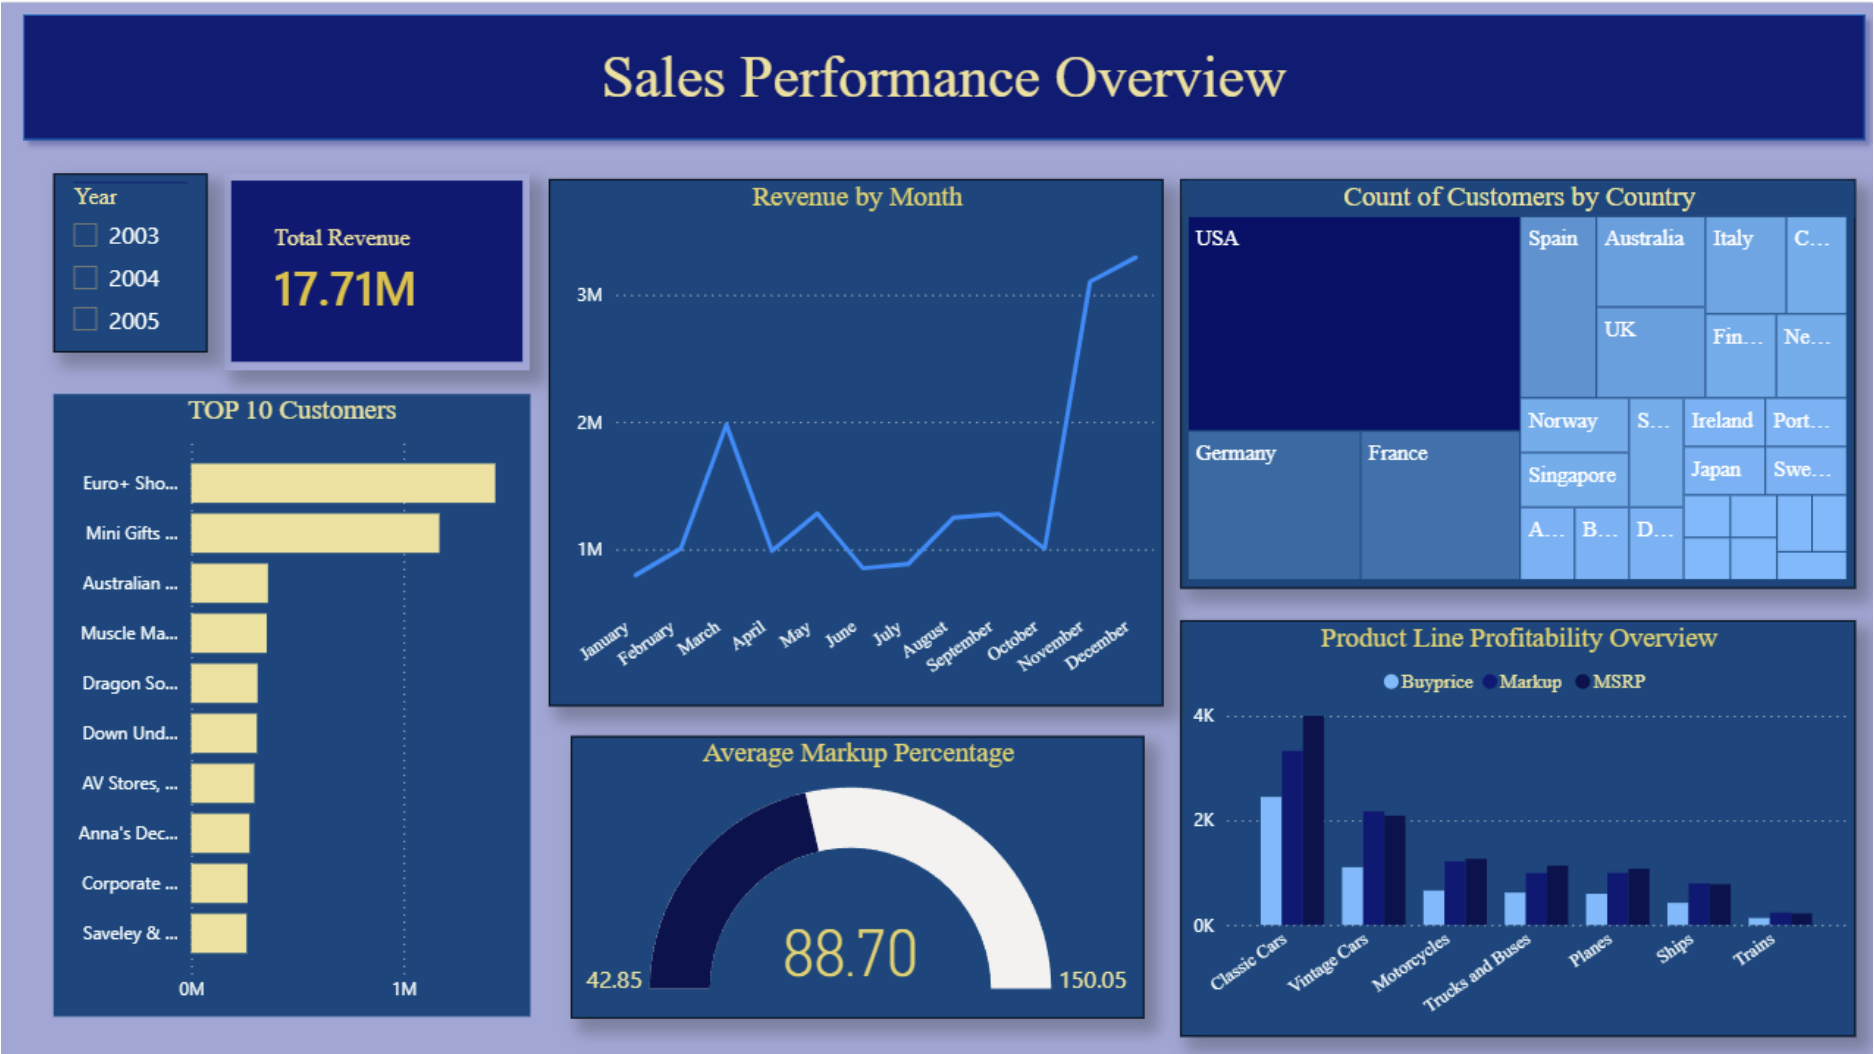

The dashboard page shown, as its layout file describes it:
{"tool":"powerbi","page":{"name":"Sales Performance","canvas":[1280,720],"ordinal":0},"visuals":[{"type":"shape","box":[9.6,0,1270.7,101.5],"z":0},{"type":"slicer","fields":{"Values":["`PAYMENTS` (2).`PAYMENTDATE`.Variation.Date Hierarchy.Year"]},"box":[38.3,116.7,105,121.7],"z":1000},{"type":"cardVisual","fields":{"Data":["important measures.Revenue"]},"box":[155,116.7,208.3,133.3],"z":2000},{"type":"gauge","title":"Average Markup Percentage","fields":{"Y":["Avg(`PRODUCTS` (2).`MARKUP_PERCENTAGE`)"],"MinValue":["Min(`PRODUCTS` (2).`MARKUP_PERCENTAGE`)"],"MaxValue":["Max(`PRODUCTS` (2).`MARKUP_PERCENTAGE`)1"]},"box":[391.7,498.3,390,191.7],"z":3000},{"type":"treemap","title":"Count of Customers by Country","fields":{"Values":["important measures.Count of Customer"],"Group":["`CUSTOMERS` (2).`COUNTRY`","`CUSTOMERS` (2).`STATE`"]},"box":[806.7,120,460,278.3],"z":4000},{"type":"clusteredBarChart","title":"TOP 10 Customers","fields":{"Category":["`CUSTOMERS` (2).`CUSTOMERNAME`"],"Y":["Sum(`PAYMENTS` (2).`AMOUNT`)"]},"box":[38.3,266.7,325,423.3],"z":5000},{"type":"clusteredColumnChart","title":"Product Line Profitability Overview","fields":{"Category":["`PRODUCTLINES` (2).`PRODUCTLINE`"],"Y":["Sum(`PRODUCTS` (2).`BUYPRICE`)","Sum(`PRODUCTS` (2).`MARKUP_PERCENTAGE`)","Sum(`PRODUCTS` (2).`MSRP`)"]},"box":[806.7,420,460,283.3],"z":6000},{"type":"lineChart","fields":{"Category":["`PAYMENTS` (2).`PAYMENTDATE`.Variation.Date Hierarchy.Year","`PAYMENTS` (2).`PAYMENTDATE`.Variation.Date Hierarchy.Quarter","`PAYMENTS` (2).`PAYMENTDATE`.Variation.Date Hierarchy.Month"],"Y":["important measures.Revenue"]},"box":[376.7,120,418.3,358.3],"z":7000}]}

Visuals, with their boxes in screenshot pixels (x1, y1, x2, y2), scaled from the page's 1280x720 canvas onto the 1874x1054 screenshot:
shape: BBox(14, 0, 1873, 149)
slicer - `PAYMENTS` (2).`PAYMENTDATE`.Variation.Date Hierarchy.Year: BBox(56, 171, 210, 349)
cardVisual - important measures.Revenue: BBox(227, 171, 532, 366)
"Average Markup Percentage" gauge: BBox(573, 729, 1144, 1010)
"Count of Customers by Country" treemap: BBox(1181, 176, 1855, 583)
"TOP 10 Customers" clusteredBarChart: BBox(56, 390, 532, 1010)
"Product Line Profitability Overview" clusteredColumnChart: BBox(1181, 615, 1855, 1030)
lineChart - `PAYMENTS` (2).`PAYMENTDATE`.Variation.Date Hierarchy.Year x `PAYMENTS` (2).`PAYMENTDATE`.Variation.Date Hierarchy.Quarter: BBox(552, 176, 1164, 700)
